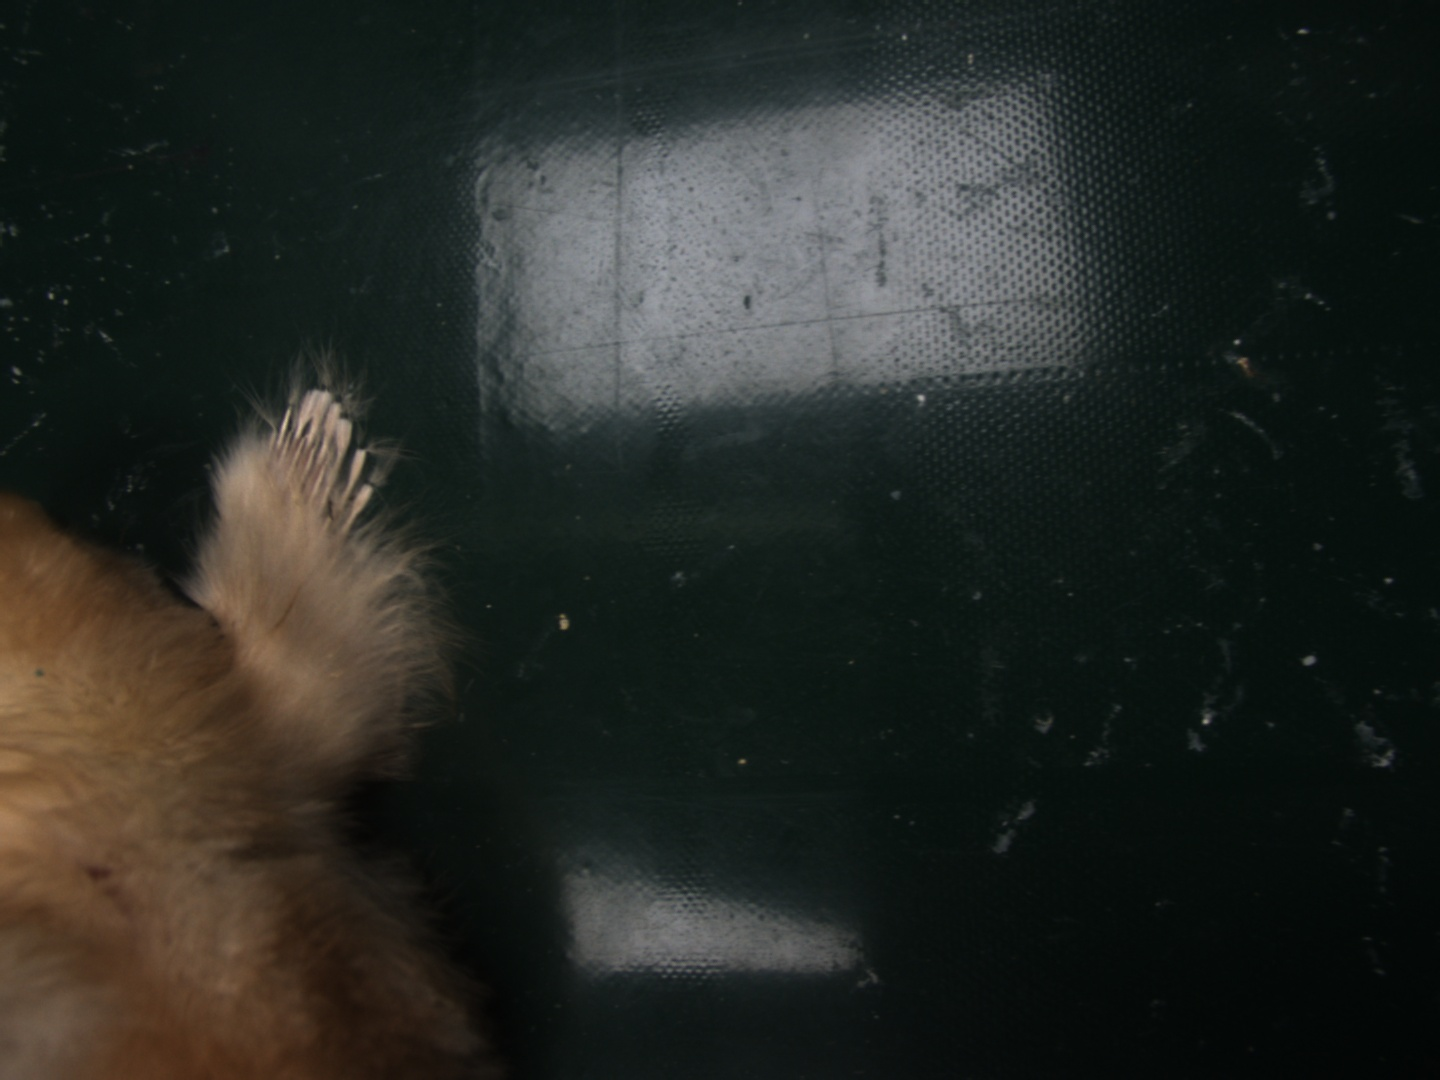female: (262, 393, 378, 545)
